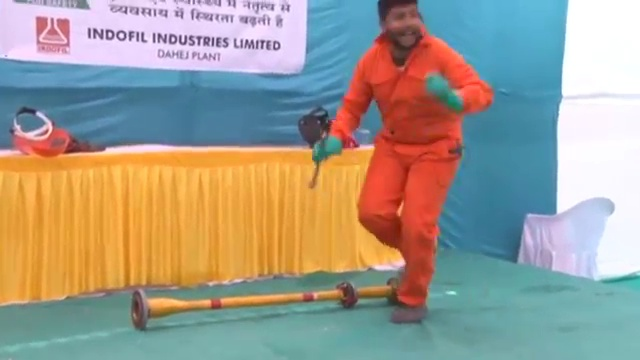helmet_off: (377, 1, 425, 50)
person: (308, 1, 496, 322)
